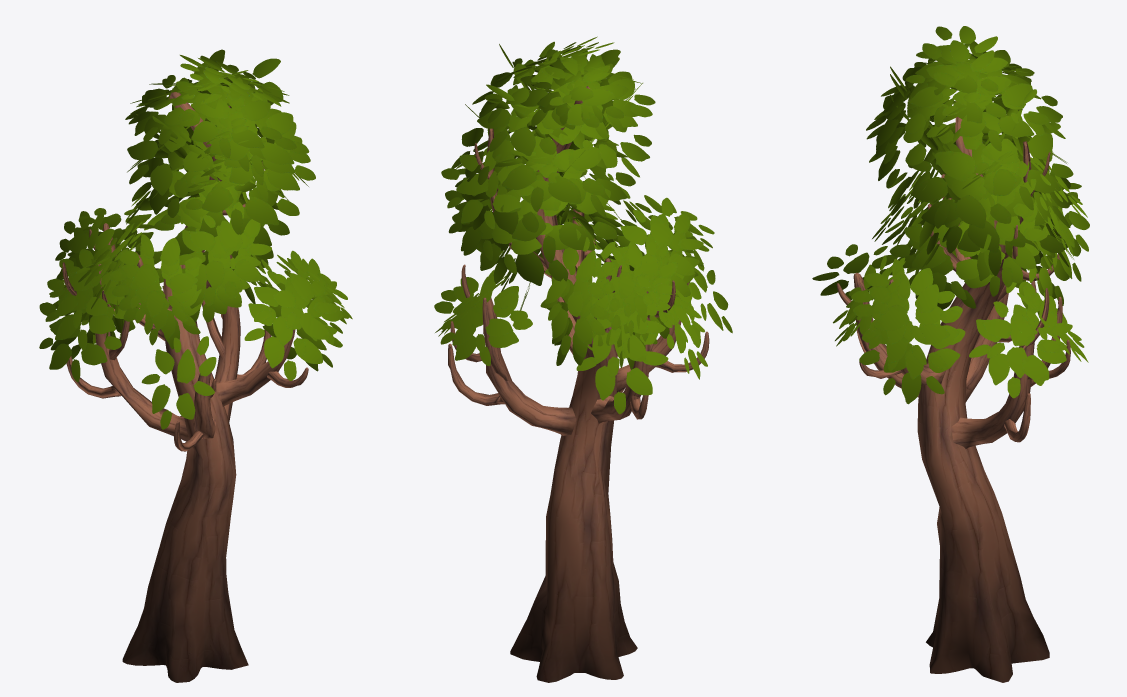
The model's file is commontree_2_lod2.glb.
3 renders of one model, left to right at view 1: azimuth 30°, elevation 25°; view 2: azimuth 150°, elevation 25°; view 3: azimuth 270°, elevation 25°, orthographic. The views are drawn at different scales.
Visible parts, largest first — view 1: CommonTree_2; view 2: CommonTree_2; view 3: CommonTree_2.
Boxes of the visible parts, box(x1,y1,x2,y2) form: CommonTree_2: box(39, 49, 352, 682); CommonTree_2: box(434, 36, 732, 682); CommonTree_2: box(812, 26, 1089, 682).
Bounding box in the file's own units: 3.68 × 7.44 × 3.62.
2 materials, 2 textured.
